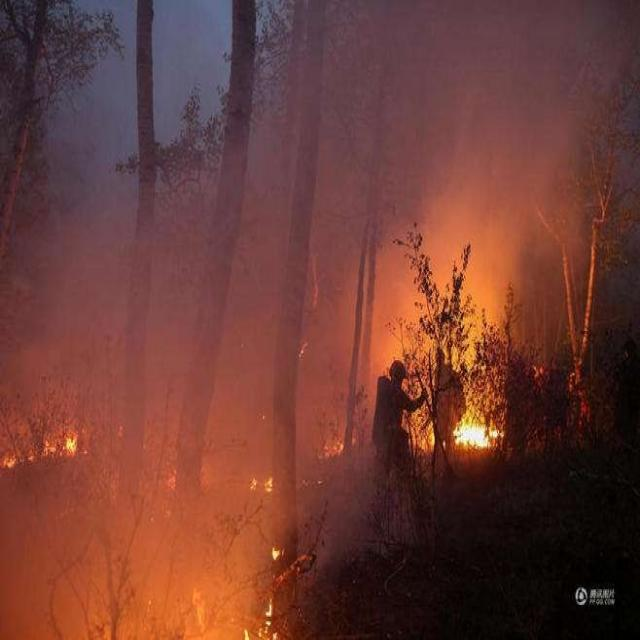fire: (245, 451, 298, 638), (1, 407, 82, 469), (448, 414, 503, 453), (322, 428, 349, 464)
